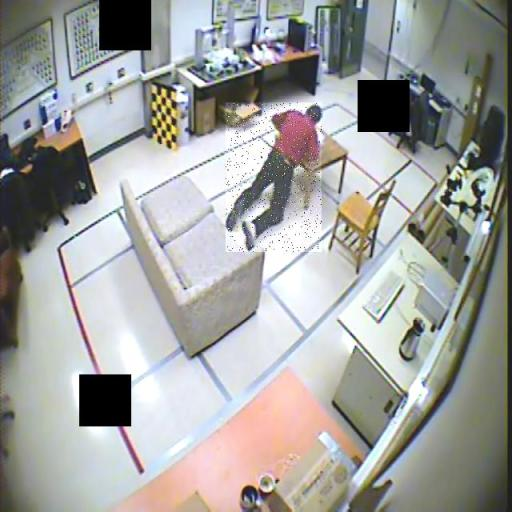Fall: (226, 102, 322, 252)
